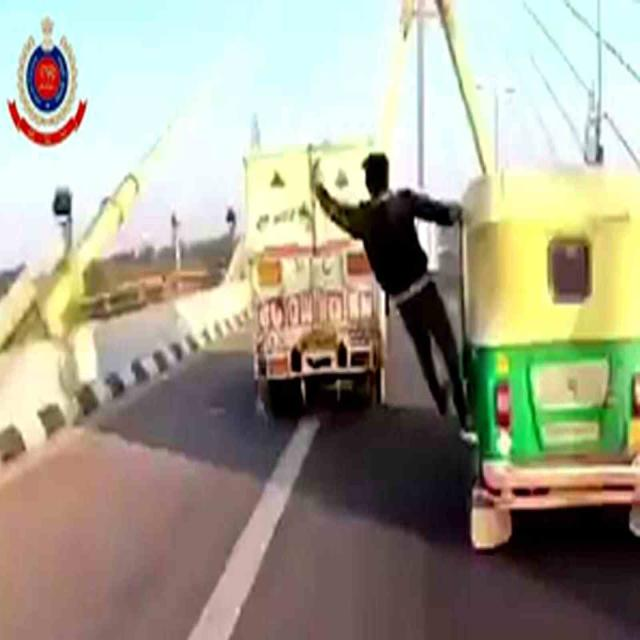autorickshaw: (461, 171, 640, 548)
